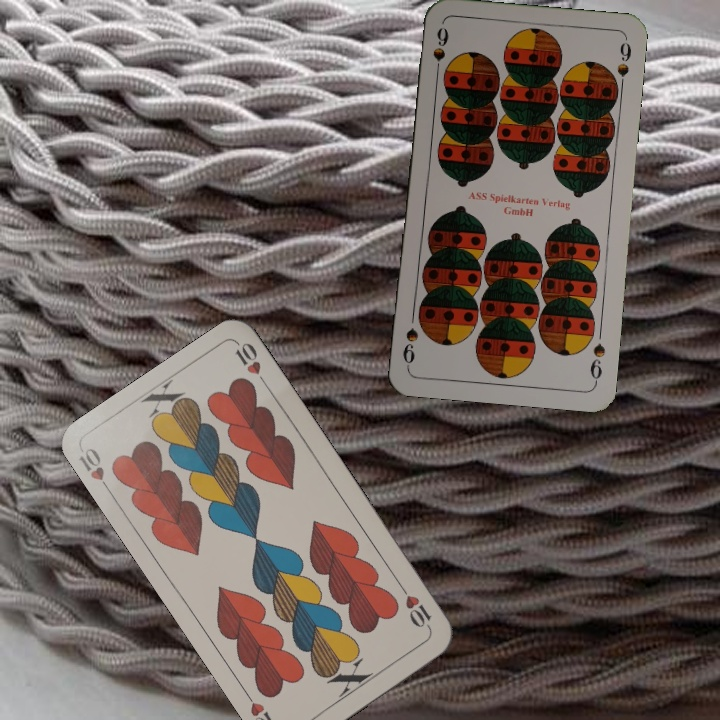H10: (75, 443, 115, 498), (395, 581, 435, 633)
S9: (429, 24, 451, 81), (586, 339, 608, 386)
